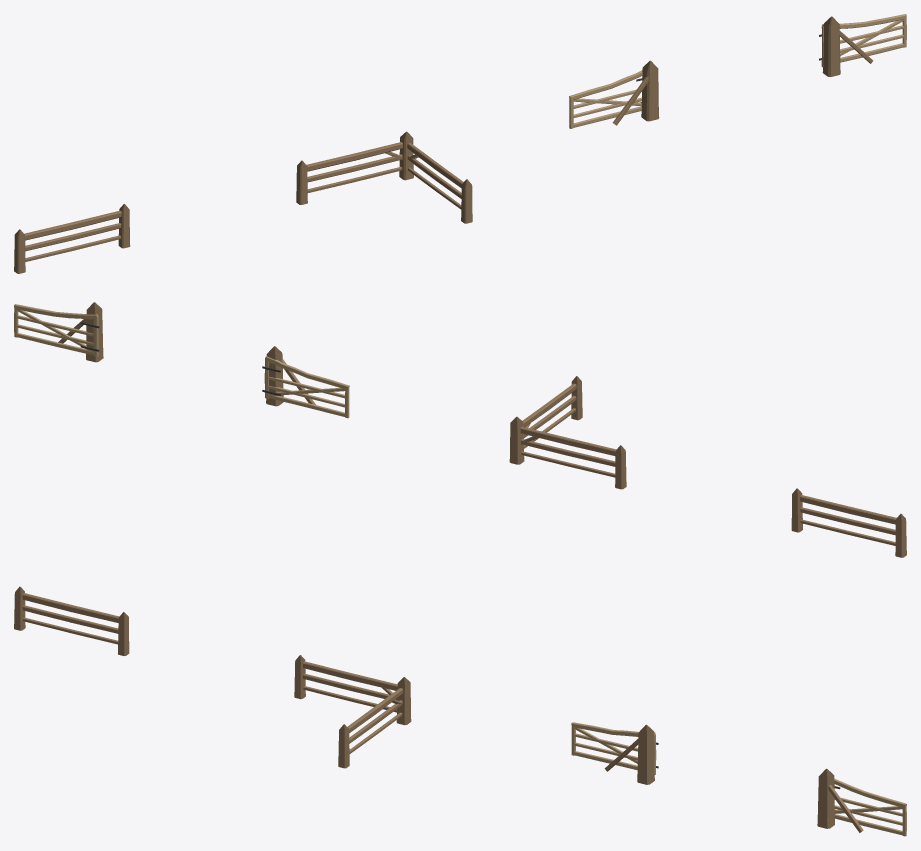
The model's file is fence-kit.glb.
3 renders of one model, top to bottom at view 1: azimuth 30°, elevation 25°; view 2: azimuth 150°, elevation 25°; view 3: azimuth 330°, elevation 25°, orthographic.
Visible parts, largest first — view 1: Mesh_gatePost1, Mesh_gatePost0, Mesh_straightRail2, Mesh_cornerRail2, Mesh_straightRail1, Mesh_cornerRail1; view 2: Mesh_straightRail2, Mesh_cornerRail2, Mesh_gatePost1, Mesh_straightRail1, Mesh_cornerPost0, Mesh_cornerRail1, Mesh_gatePost0; view 3: Mesh_gatePost0, Mesh_gatePost1, Mesh_straightRail2, Mesh_cornerRail2, Mesh_straightRail1, Mesh_cornerRail1, Mesh_cornerPost0.
Boxes of the visible parts, x1,y1,x2,y2 form: Mesh_gatePost1: [822, 16, 840, 76]; Mesh_gatePost0: [641, 60, 659, 121]; Mesh_straightRail2: [24, 210, 121, 240]; Mesh_cornerRail2: [306, 142, 402, 171]; Mesh_straightRail1: [25, 223, 121, 251]; Mesh_cornerRail1: [307, 154, 402, 182]; Mesh_straightRail2: [800, 495, 896, 524]; Mesh_cornerRail2: [520, 426, 616, 455]; Mesh_gatePost1: [86, 302, 103, 362]; Mesh_straightRail1: [800, 507, 895, 535]; Mesh_cornerPost0: [509, 416, 524, 464]; Mesh_cornerRail1: [521, 439, 615, 466]; Mesh_gatePost0: [266, 346, 283, 406]; Mesh_gatePost0: [637, 724, 654, 784]; Mesh_gatePost1: [817, 768, 834, 828]; Mesh_straightRail2: [22, 593, 119, 622]; Mesh_cornerRail2: [303, 661, 397, 690]; Mesh_straightRail1: [22, 605, 118, 633]; Mesh_cornerRail1: [303, 673, 397, 699]; Mesh_cornerPost0: [396, 677, 411, 725].
Size of the model in its own units: 42.76 by 2.59 by 5.55.
